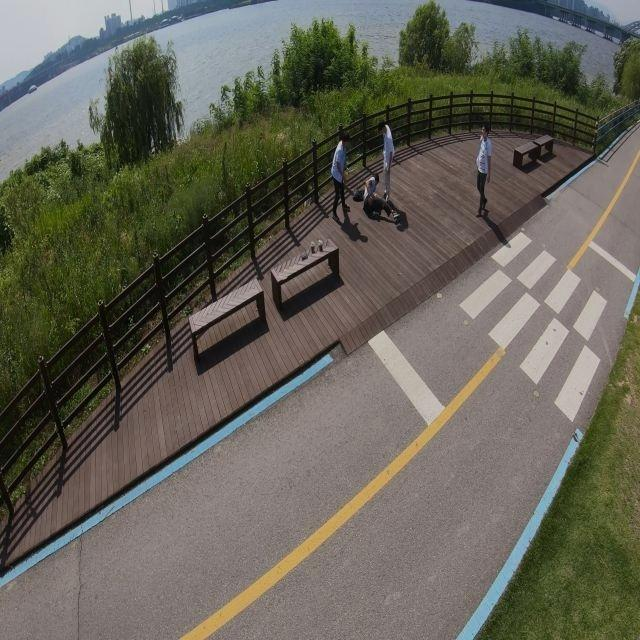fight: (358, 120, 402, 223)
non-fight: (473, 123, 493, 218), (330, 136, 350, 223)
